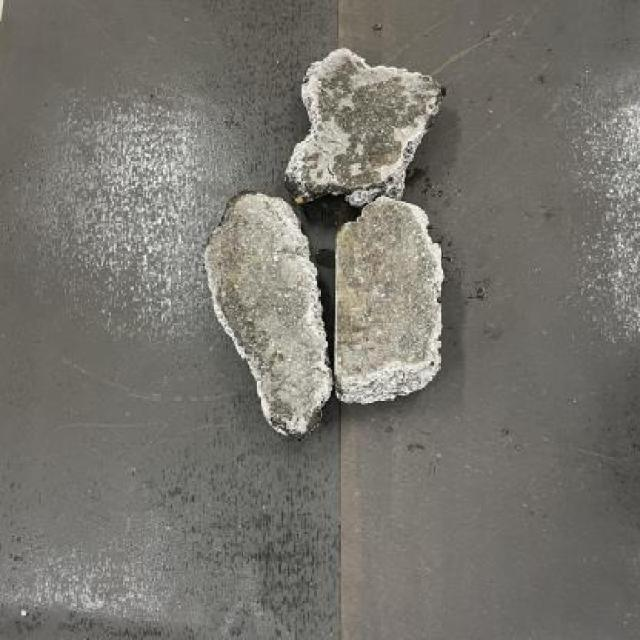Road Debris: (214, 198, 318, 419), (345, 200, 433, 386), (320, 72, 425, 194)
